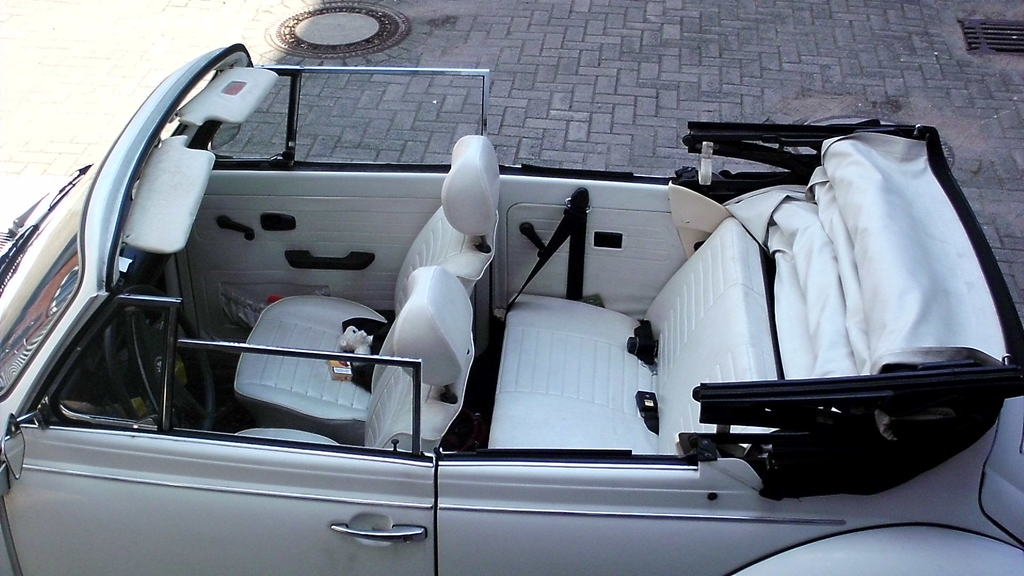cars: (0, 71, 965, 575)
